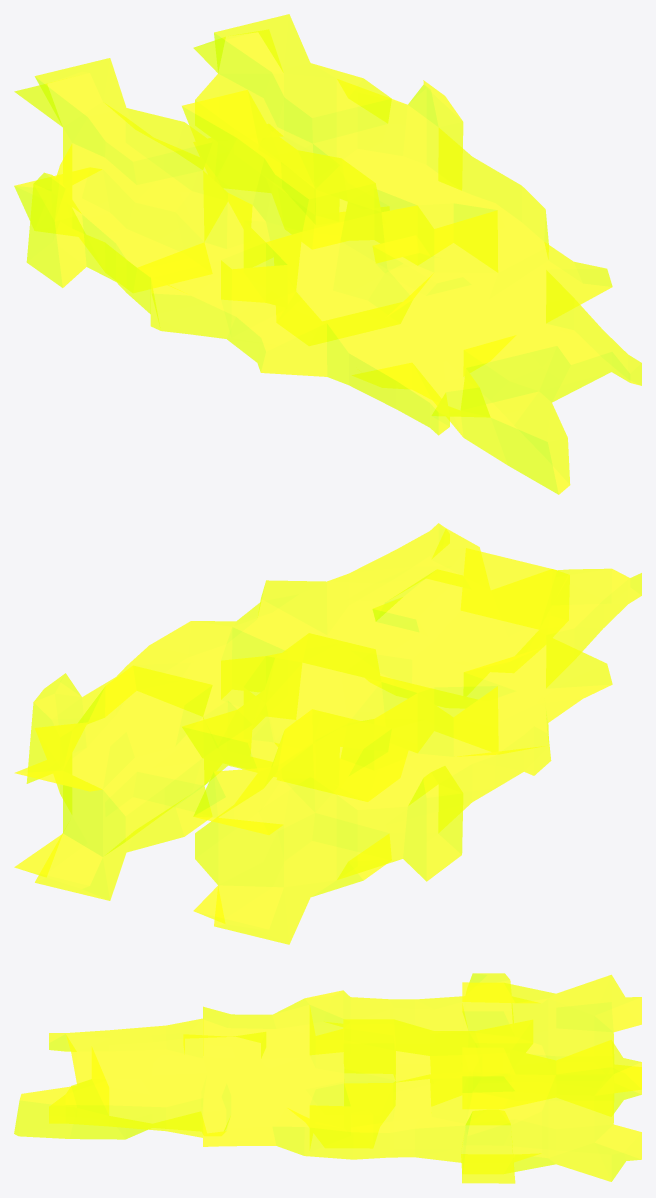
File: lowpoly.fbx
3 views of the same model, one above another, from view 1: azimuth 30°, elevation 25°; view 2: azimuth 150°, elevation 25°; view 3: azimuth 270°, elevation 25° (orthographic). The views are drawn at different scales.
Visible parts, largest first — view 1: SF_Imperial-Corvette-F3; view 2: SF_Imperial-Corvette-F3; view 3: SF_Imperial-Corvette-F3.
Part boxes in pixels (x1,y1,x2,y2): SF_Imperial-Corvette-F3: [14, 14, 641, 494]; SF_Imperial-Corvette-F3: [14, 523, 641, 944]; SF_Imperial-Corvette-F3: [14, 973, 641, 1183].
Bounding box in the file's own units: 17098 × 6189 × 30605.
